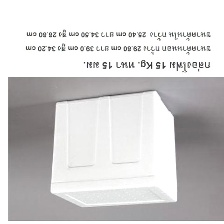foam_box: (46, 88, 182, 211)
